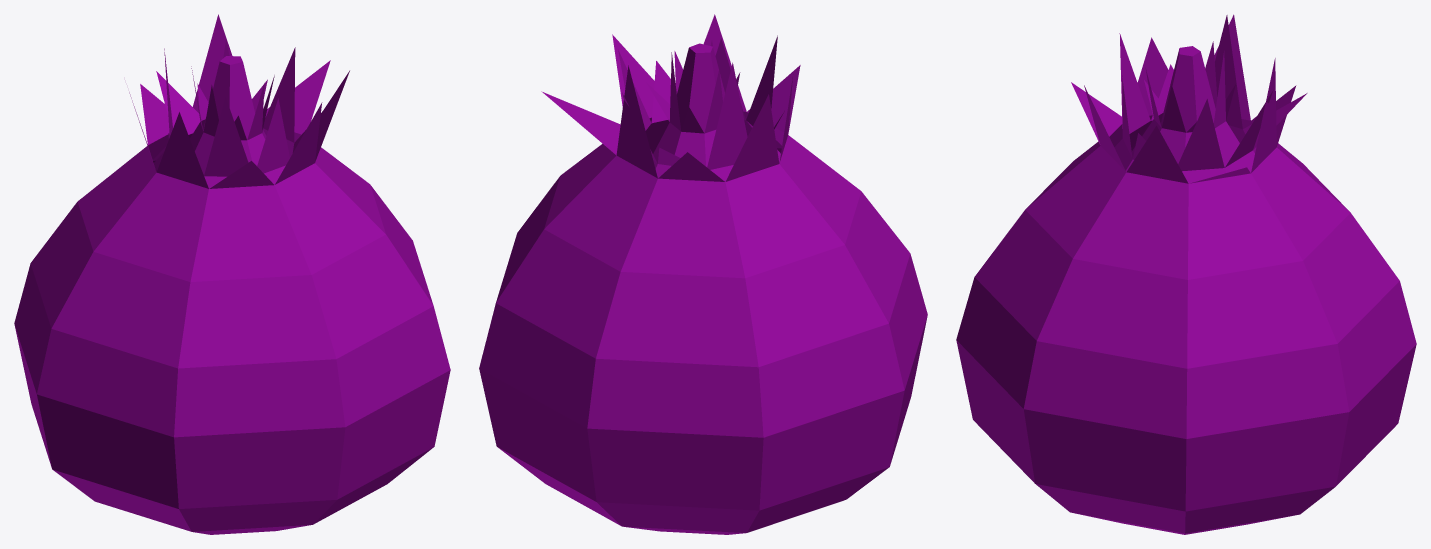
The model's file is onion_3d.glb.
The picture shows the model from 3 angles, left to right: view 1: azimuth 30°, elevation 25°; view 2: azimuth 150°, elevation 25°; view 3: azimuth 270°, elevation 25°; orthographic projection. The views are drawn at different scales.
Parts seen in each view (by area): view 1: onion_full; view 2: onion_full; view 3: onion_full.
Boxes of the visible parts, x1,y1,x2,y2 form: onion_full: (14,14,450,534); onion_full: (479,14,927,534); onion_full: (956,14,1416,534).
Size of the model in its own units: 1.55 by 1.76 by 1.55.
